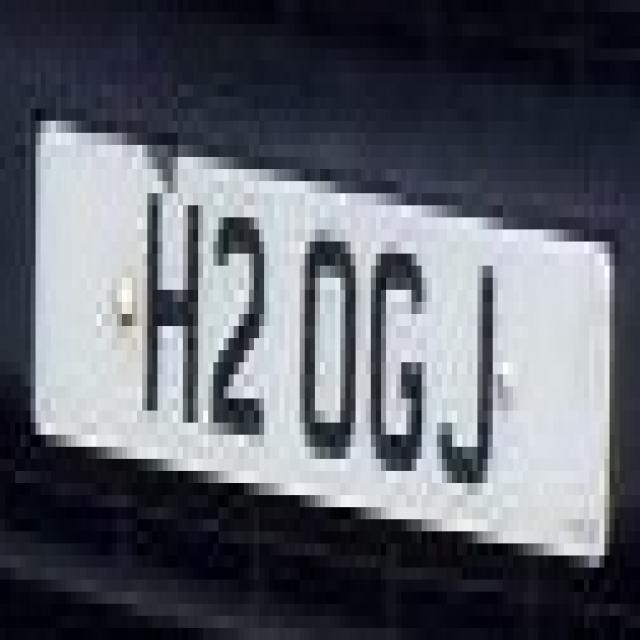licenseplate: (26, 95, 624, 584)
